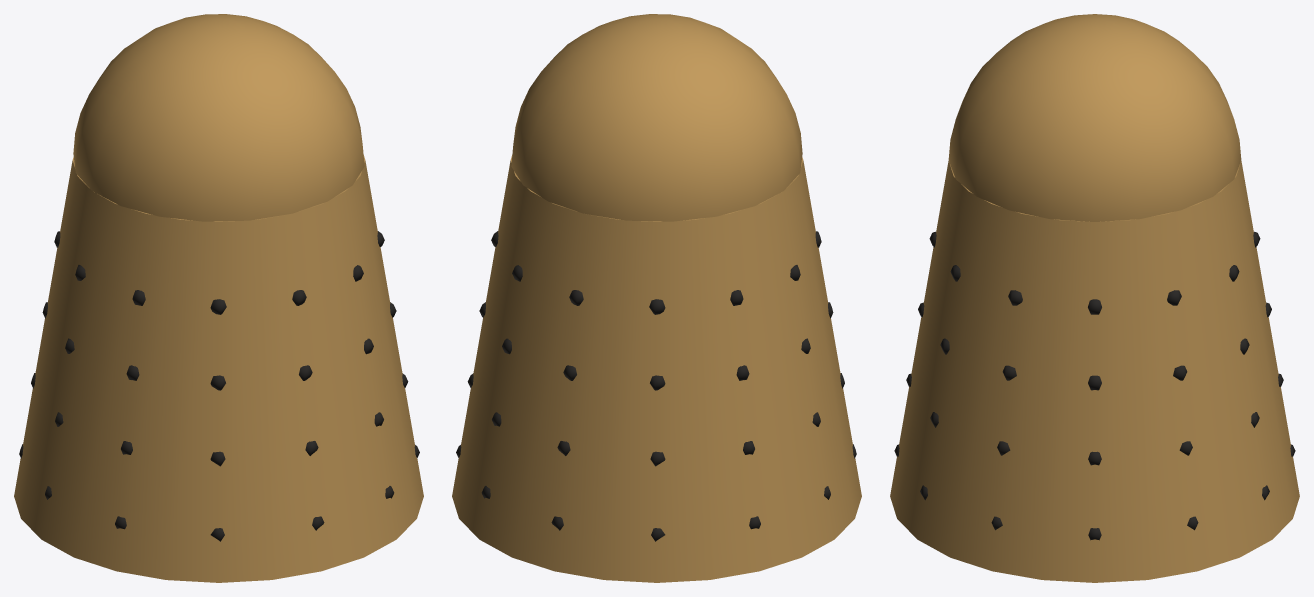
File: brass-thimble.glb
3 views of the same model, side by side, from view 1: azimuth 30°, elevation 25°; view 2: azimuth 150°, elevation 25°; view 3: azimuth 270°, elevation 25° (orthographic).
Visible parts, largest first — view 1: thimble-body, thimble-dome; view 2: thimble-body, thimble-dome; view 3: thimble-body, thimble-dome.
Part boxes in pixels (x1,y1,x2,y2): thimble-body: (14,155,423,582); thimble-dome: (73,14,364,221); thimble-body: (452,155,861,582); thimble-dome: (511,14,802,221); thimble-body: (890,161,1299,582); thimble-dome: (948,14,1241,221).
Size of the model in its own units: 0.21 by 0.265 by 0.21.
